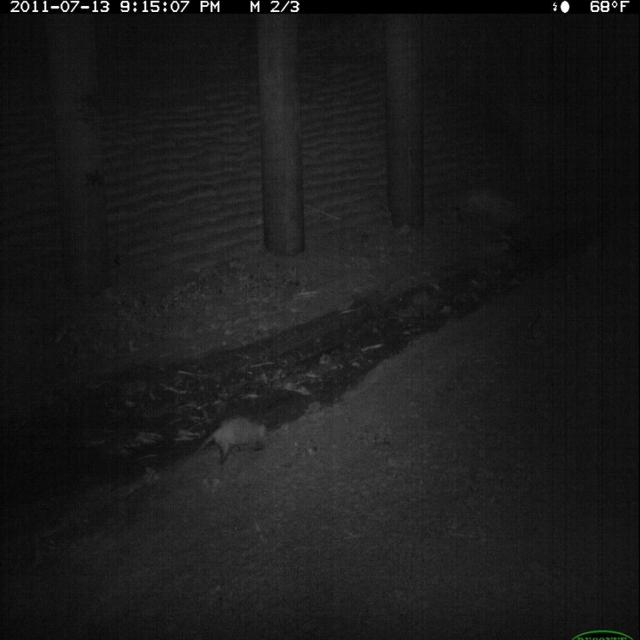opossum: (190, 413, 273, 472)
